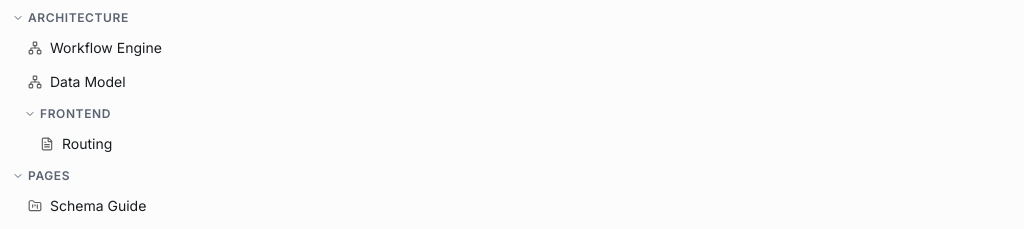
Scenario: KnowledgePageTree › collapses a section and persists the choice across remounts
Click the button "Architecture" at {"x": 78, "y": 18}, box [4,4,1020,32]
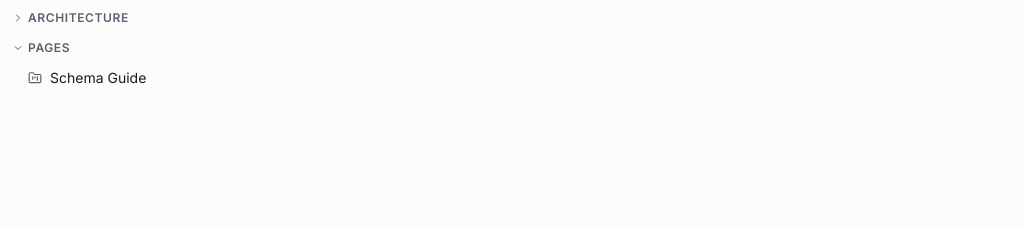
Expected: the button "Workflow Engine" is gone
